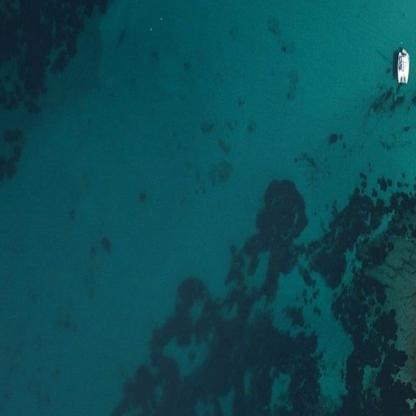ship: (392, 39, 414, 90)
